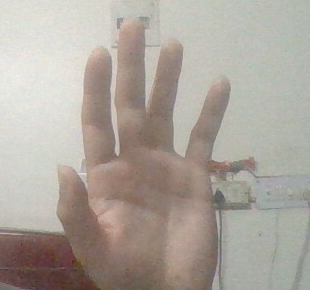move: (55, 16, 231, 290)
